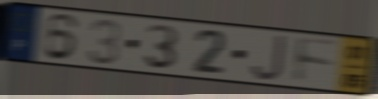2: (190, 28, 227, 77)
3: (86, 17, 122, 66), (143, 24, 180, 71)
6: (43, 12, 80, 63)
F: (293, 34, 340, 85)
J: (249, 33, 288, 83)
